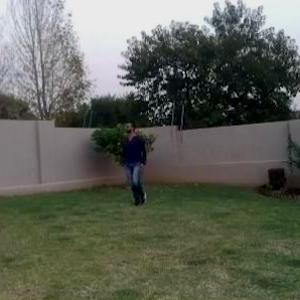follow: (121, 119, 151, 212)
